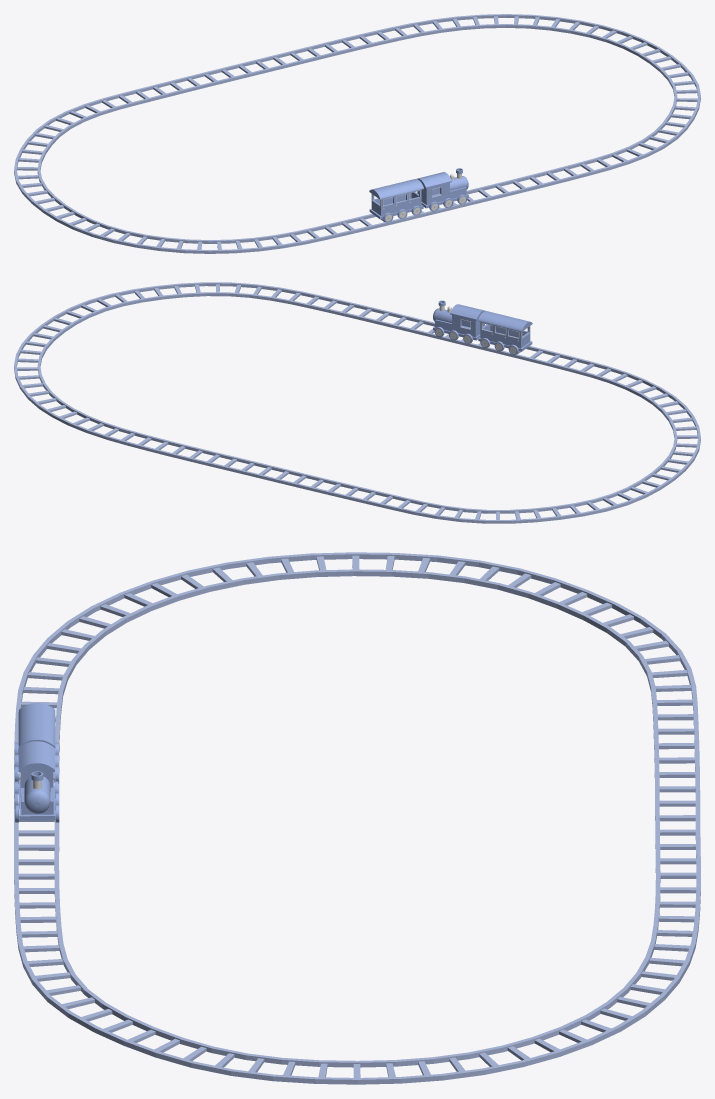
Rendered from Train.glb.
The picture shows the model from 3 angles, top to bottom: view 1: azimuth 30°, elevation 25°; view 2: azimuth 150°, elevation 25°; view 3: azimuth 270°, elevation 25°; orthographic projection. The views are drawn at different scales.
Visible parts, largest first — view 1: Rail, Train02, Train01; view 2: Rail, Train02, Train01; view 3: Rail, Train01, Train02.
Part boxes in pixels (bbox=[...]): Rail: bbox=[14, 14, 700, 253]; Train02: bbox=[369, 179, 423, 222]; Train01: bbox=[417, 168, 468, 211]; Rail: bbox=[14, 282, 700, 523]; Train02: bbox=[478, 311, 532, 354]; Train01: bbox=[433, 300, 485, 343]; Rail: bbox=[14, 552, 700, 1084]; Train01: bbox=[14, 741, 59, 822]; Train02: bbox=[14, 703, 59, 783].
Bounding box in the file's own units: 8.47 × 0.4551 × 4.66.
